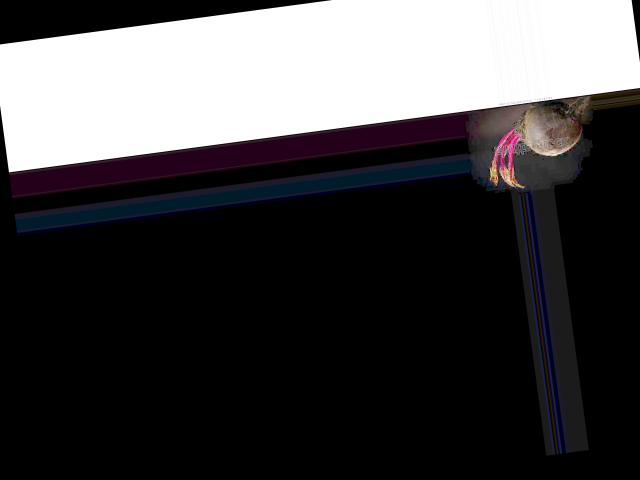beet: (481, 94, 603, 191)
